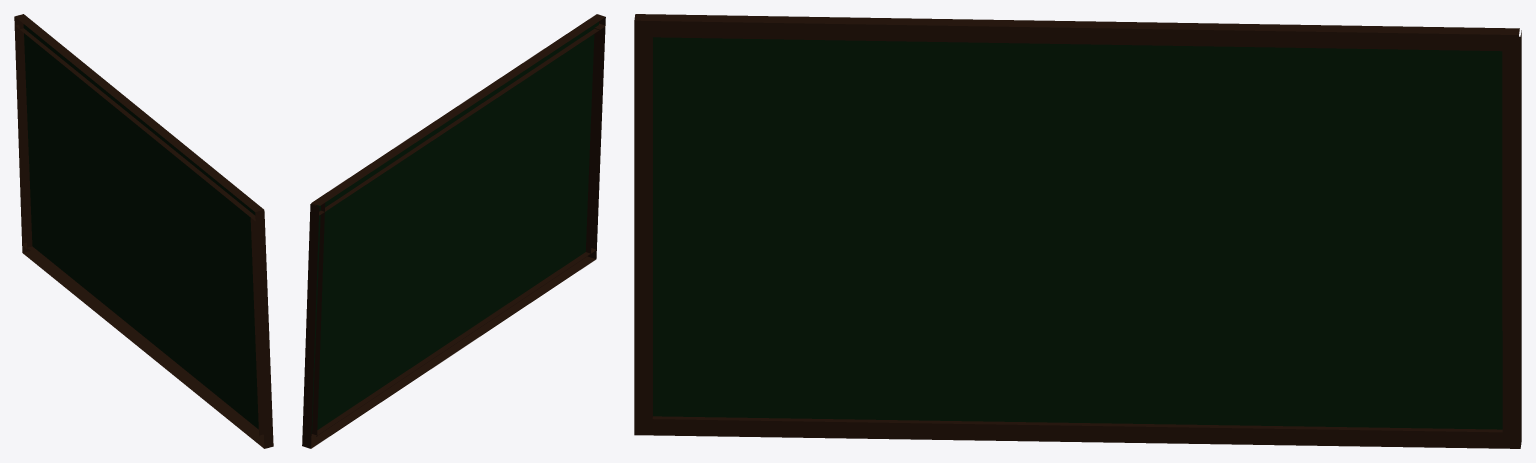
Rendered from Chalkboard.fbx.
3 views of the same model, side by side, from view 1: azimuth 30°, elevation 25°; view 2: azimuth 150°, elevation 25°; view 3: azimuth 270°, elevation 25° (orthographic). The views are drawn at different scales.
Visible parts, largest first — view 1: chalkboard; view 2: chalkboard; view 3: chalkboard.
Part boxes in pixels (x1,y1,x2,y2): chalkboard: (14, 14, 273, 448); chalkboard: (302, 14, 605, 448); chalkboard: (634, 14, 1521, 448).
Bounding box in the file's own units: 45.38 × 285 × 560.
